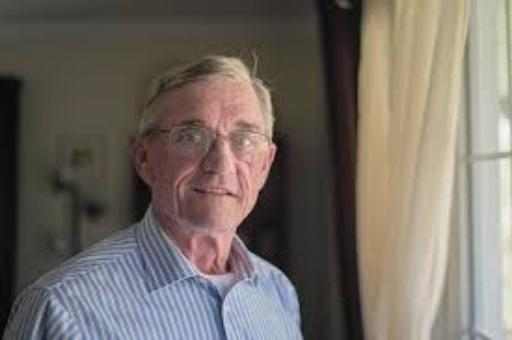left_eye: (228, 134, 255, 151)
left_lip_corner: (227, 187, 242, 201)
right_eye: (174, 131, 205, 148)
right_lip_corner: (191, 185, 206, 196)
